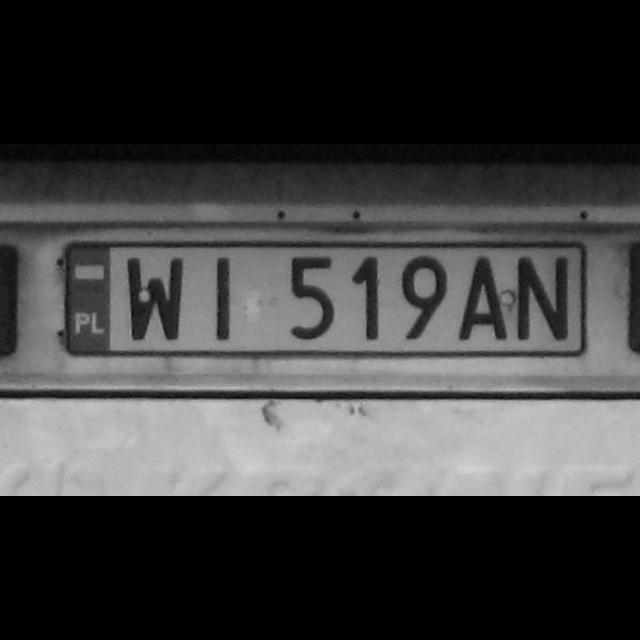licenseplate: (71, 247, 579, 348)
